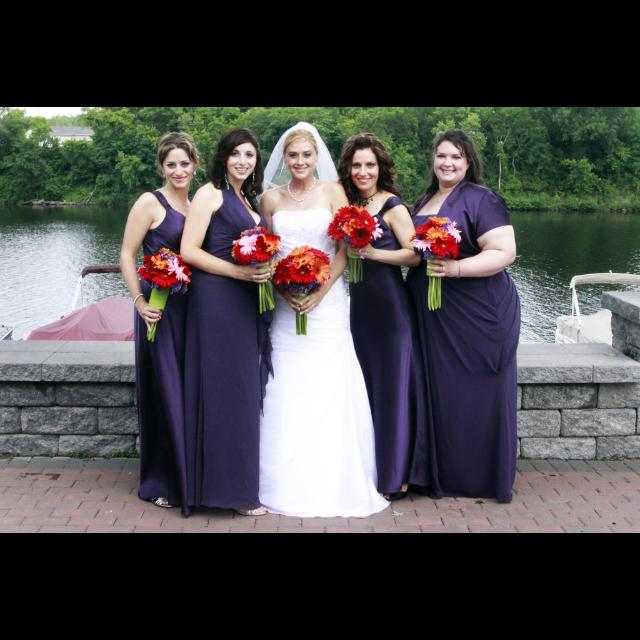Flower: (272, 243, 336, 287), (408, 216, 467, 260), (329, 204, 385, 248), (230, 225, 284, 267), (134, 244, 180, 290)
